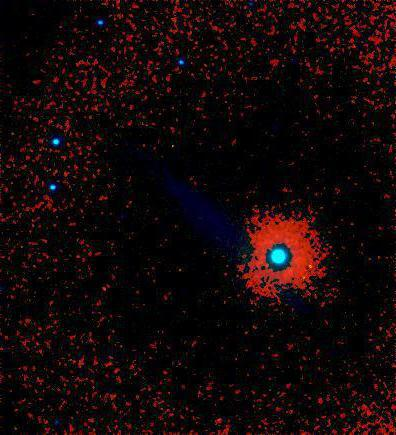star: (89, 272, 119, 302)
